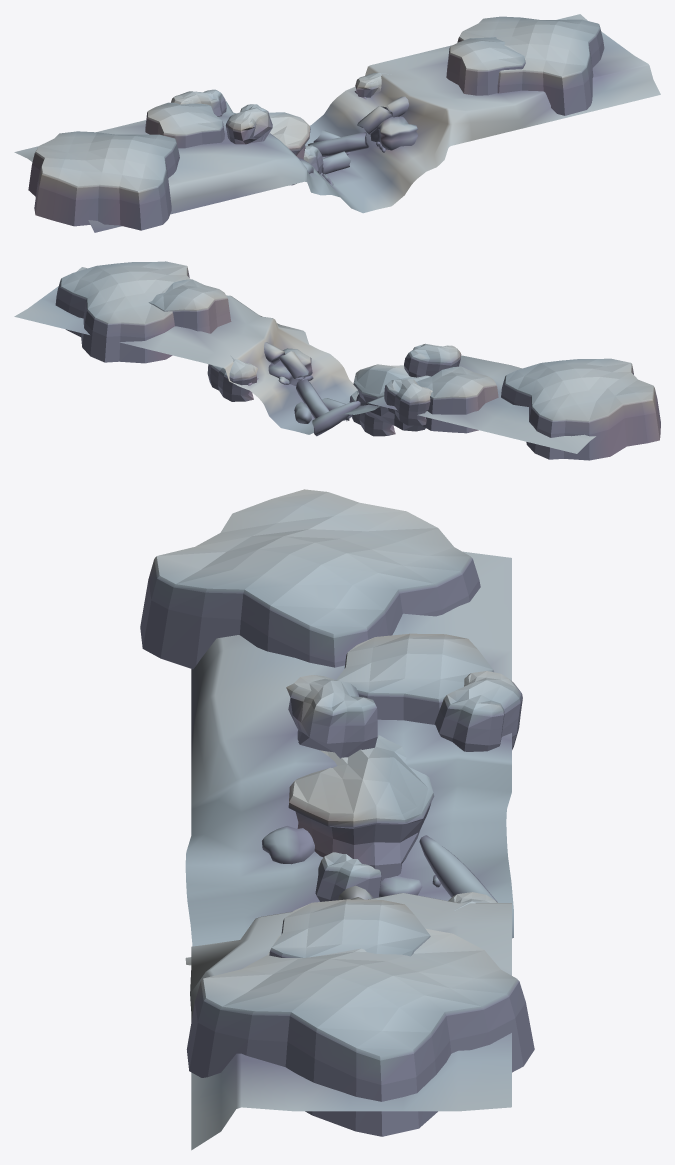
File: Arctic_Luge_Straight_OverObstacle_A.glb
3 renders of one model, top to bottom at view 1: azimuth 30°, elevation 25°; view 2: azimuth 150°, elevation 25°; view 3: azimuth 270°, elevation 25°, orthographic. The views are drawn at different scales.
Visible parts, largest first — view 1: Arctic_Luge_Straight_OverObstacle_A, Arctic_Luge_MediumIceRock_prop (1), Arctic_Luge_MediumIceRock_prop, Arctic_Luge_SmallIceRock_prop, Arctic_Luge_SmallIceRock_prop (1), Arctic_Luge_SmalRock_prop (1), Arctic_Luge_MediumRock_prop, Arctic_Luge_SmalRock_prop, Arctic_Luge_SmalRock_prop (3), Arctic_Luge_SmalRock_prop (2); view 2: Arctic_Luge_Straight_OverObstacle_A, Arctic_Luge_MediumIceRock_prop (1), Arctic_Luge_MediumIceRock_prop, Arctic_Luge_SmallIceRock_prop (1), Arctic_Luge_SmallIceRock_prop, Arctic_Luge_MediumRock_prop, Arctic_Luge_SmalRock_prop, Arctic_Luge_SmalRock_prop (1), Arctic_Luge_SmalRock_prop (3), Arctic_Luge_SmalRock_prop (2); view 3: Arctic_Luge_Straight_OverObstacle_A, Arctic_Luge_MediumIceRock_prop, Arctic_Luge_MediumIceRock_prop (1), Arctic_Luge_MediumRock_prop, Arctic_Luge_SmallIceRock_prop (1), Arctic_Luge_SmallIceRock_prop, Arctic_Luge_SmalRock_prop (1), Arctic_Luge_SmalRock_prop, Arctic_Luge_SmalRock_prop (2).
Part boxes in pixels (x1,y1,x2,y2): Arctic_Luge_Straight_OverObstacle_A: [14, 14, 660, 232]; Arctic_Luge_MediumIceRock_prop (1): [28, 131, 179, 230]; Arctic_Luge_MediumIceRock_prop: [457, 16, 604, 115]; Arctic_Luge_SmallIceRock_prop: [446, 37, 525, 95]; Arctic_Luge_SmallIceRock_prop (1): [145, 102, 224, 148]; Arctic_Luge_SmalRock_prop (1): [225, 104, 272, 144]; Arctic_Luge_MediumRock_prop: [269, 112, 310, 159]; Arctic_Luge_SmalRock_prop: [171, 89, 226, 116]; Arctic_Luge_SmalRock_prop (3): [355, 72, 391, 97]; Arctic_Luge_SmalRock_prop (2): [291, 145, 323, 185]; Arctic_Luge_Straight_OverObstacle_A: [14, 267, 595, 453]; Arctic_Luge_MediumIceRock_prop (1): [501, 358, 660, 460]; Arctic_Luge_MediumIceRock_prop: [55, 261, 190, 363]; Arctic_Luge_SmallIceRock_prop (1): [417, 366, 498, 433]; Arctic_Luge_SmallIceRock_prop: [148, 279, 231, 333]; Arctic_Luge_MediumRock_prop: [353, 364, 430, 431]; Arctic_Luge_SmalRock_prop: [384, 379, 432, 425]; Arctic_Luge_SmalRock_prop (1): [404, 343, 461, 377]; Arctic_Luge_SmalRock_prop (3): [207, 355, 257, 401]; Arctic_Luge_SmalRock_prop (2): [349, 390, 395, 436]; Arctic_Luge_Straight_OverObstacle_A: [185, 551, 513, 1150]; Arctic_Luge_MediumIceRock_prop: [186, 928, 534, 1136]; Arctic_Luge_MediumIceRock_prop (1): [140, 489, 480, 669]; Arctic_Luge_MediumRock_prop: [288, 735, 434, 881]; Arctic_Luge_SmallIceRock_prop (1): [336, 633, 493, 724]; Arctic_Luge_SmallIceRock_prop: [269, 899, 430, 957]; Arctic_Luge_SmalRock_prop (1): [286, 675, 377, 758]; Arctic_Luge_SmalRock_prop: [435, 671, 522, 751]; Arctic_Luge_SmalRock_prop (2): [315, 852, 381, 901].
Size of what is drawn, in the model's own units: 27.4 by 4.32 by 7.88.
